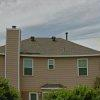Chimney: (4, 20, 26, 75)
